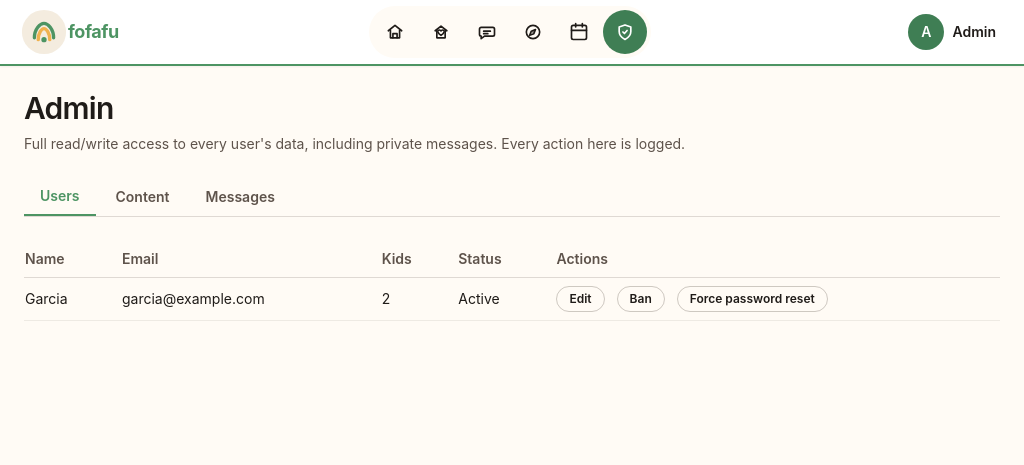
Test case: AdminPage › Users view: can edit a user, including their email
Expected: the text "Garcia" is shown, [24, 278, 121, 320]
Click the button "Edit". click: point(580, 299)
box: [556, 286, 604, 312]
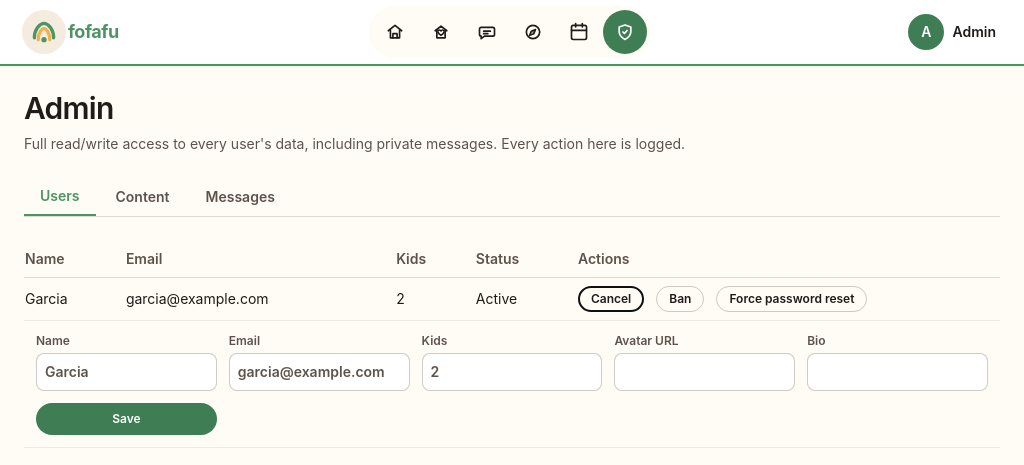
Replace the text in the field labelled "Email" with "new-email@example.com". click: point(319, 372)
box: [229, 353, 410, 391]
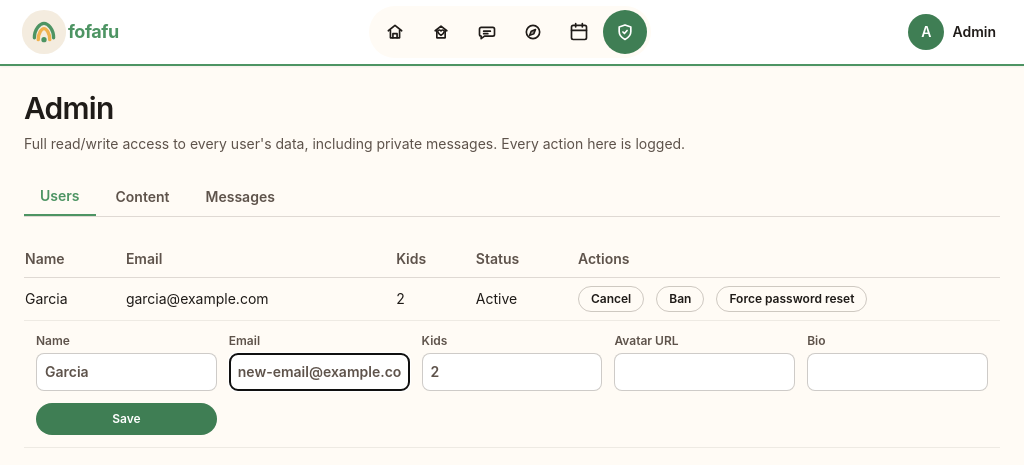
Click the button "Save". click: point(126, 419)
box: [36, 403, 217, 435]
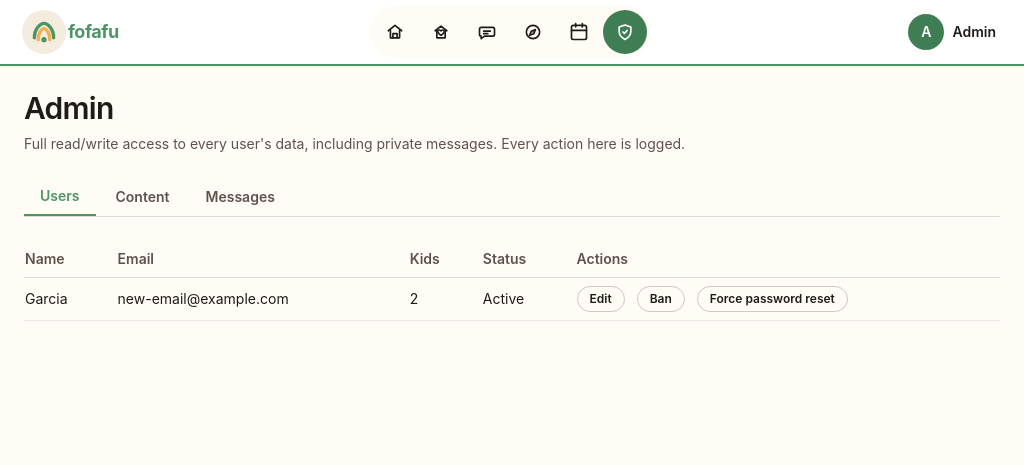
Result: the text "new-email@example.com" is shown at [117, 278, 409, 320]
